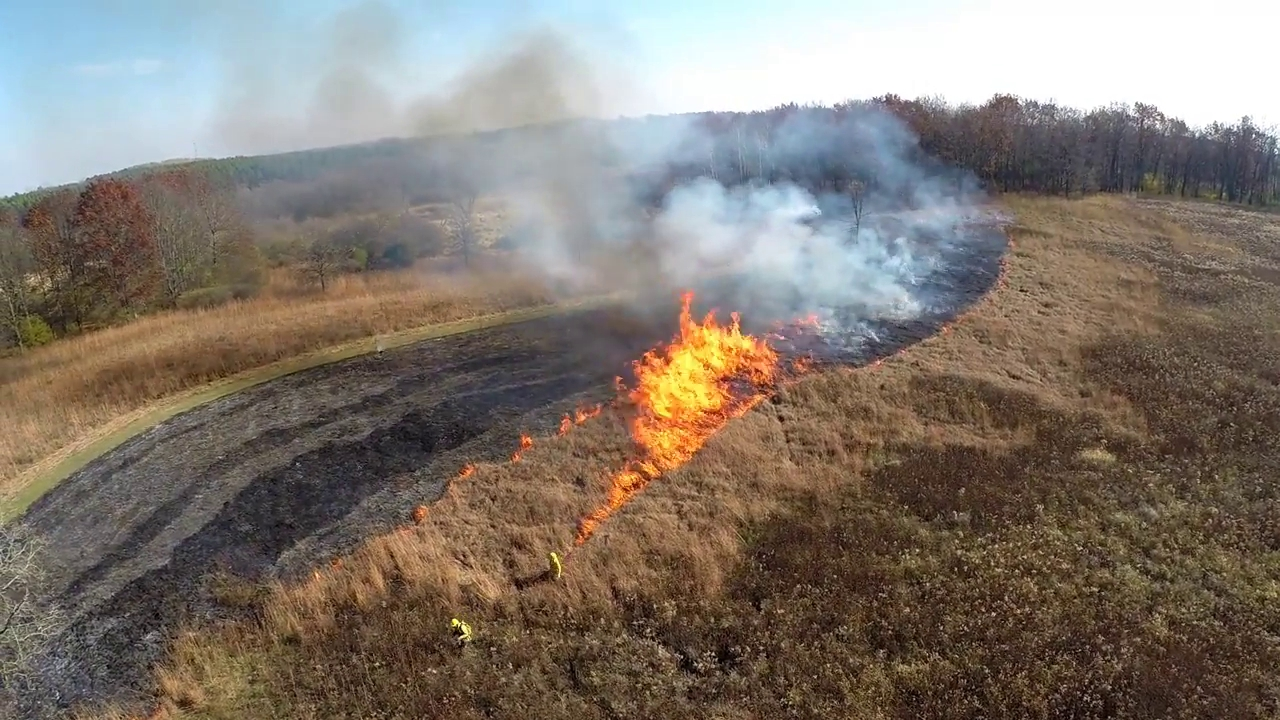forest_fire: (575, 293, 778, 544), (558, 406, 601, 434), (511, 435, 532, 461)
